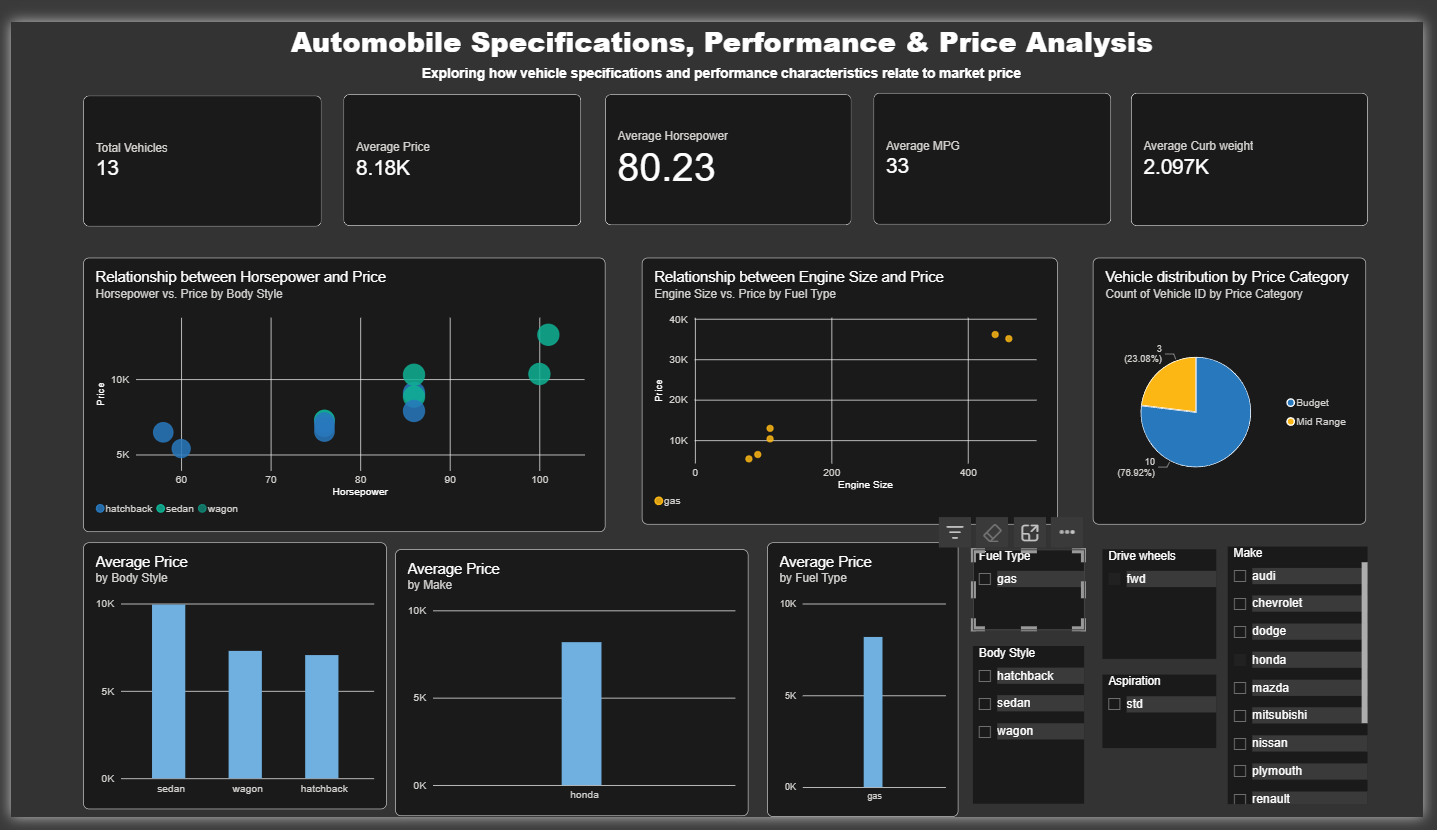

The page's visual inventory and layout, read from the dashboard file:
{"tool":"powerbi","page":{"name":"Automobile Overview","canvas":[1920,1080],"ordinal":0},"visuals":[{"type":"textbox","box":[10.4,0,1910.4,70.8],"z":0},{"type":"cardVisual","fields":{"Data":["Automobile.Total Vehicles"]},"box":[97.5,100,324.4,178],"z":1000},{"type":"cardVisual","fields":{"Data":["Automobile.Average Price"]},"box":[452.5,97.5,323.8,179.2],"z":2000},{"type":"cardVisual","fields":{"Data":["Automobile.Average Horsepower"]},"box":[807.5,97.5,335.4,178.5],"z":3000},{"type":"cardVisual","fields":{"Data":["Automobile.Average_MPG"]},"box":[1171.4,97.1,323.1,179.2],"z":4000},{"type":"clusteredColumnChart","fields":{"Category":["Automobile.Make"],"Y":["Automobile.Average Price"]},"box":[522.5,717.5,480,362.5],"z":5000},{"type":"scatterChart","title":"Relationship between Engine Size and Price","fields":{"Category":["Automobile.Horsepower"],"Series":["Automobile.Fuel Type"],"X":["Sum(Automobile.Engine size)"],"Y":["Sum(Automobile.Price)"]},"box":[857.5,320,565,362.5],"z":6000},{"type":"scatterChart","title":"Relationship between Horsepower and Price","fields":{"Series":["Automobile.Body Style"],"Size":["Sum(Automobile.Engine size)"],"X":["Automobile.Horsepower"],"Y":["Automobile.Price"]},"box":[97.5,320,710,372.5],"z":7000},{"type":"clusteredColumnChart","fields":{"Category":["Automobile.Body Style"],"Y":["Automobile.Average Price"]},"box":[97.5,707.5,412.5,362.5],"z":8000},{"type":"clusteredColumnChart","fields":{"Category":["Automobile.Fuel Type"],"Y":["Automobile.Average Price"]},"box":[1027.5,707.5,260,372.5],"z":9000},{"type":"slicer","fields":{"Values":["Automobile.Make"]},"box":[1653.8,712.5,190,350],"z":10000},{"type":"slicer","fields":{"Values":["Automobile.Fuel Type"]},"box":[1307.5,717.5,151.1,108.9],"z":11000},{"type":"slicer","fields":{"Values":["Automobile.Body Style"]},"box":[1307.5,848.8,151,214],"z":12000},{"type":"slicer","fields":{"Values":["Automobile.Drive wheels"]},"box":[1482.5,717.5,155,148.8],"z":13000},{"type":"slicer","fields":{"Values":["Automobile.Aspiration"]},"box":[1482.5,887.5,155,100],"z":14000},{"type":"cardVisual","fields":{"Data":["Avg(Automobile.Curb weight)"]},"box":[1521.4,97.1,322.9,181.4],"z":15000},{"type":"pieChart","title":"Vehicle distribution by Price Category","fields":{"Category":["Automobile.Price Category"],"Y":["CountNonNull(Automobile.Vehicle ID)"]},"box":[1470,320,371.2,362.5],"z":16000},{"type":"textbox","box":[522.5,58.8,886.2,30],"z":17000}]}

Visuals, with their boxes in screenshot pixels (x1, y1, x2, y2), scaled from the page's 1920x1080 canvas onto the 1437x830 screenshot:
textbox: 8/0/1436/54
cardVisual - Automobile.Total Vehicles: 73/77/316/214
cardVisual - Automobile.Average Price: 339/75/581/213
cardVisual - Automobile.Average Horsepower: 604/75/855/212
cardVisual - Automobile.Average_MPG: 877/75/1119/212
clusteredColumnChart - Automobile.Make x Automobile.Average Price: 391/551/750/829
"Relationship between Engine Size and Price" scatterChart: 642/246/1065/525
"Relationship between Horsepower and Price" scatterChart: 73/246/604/532
clusteredColumnChart - Automobile.Body Style x Automobile.Average Price: 73/544/382/822
clusteredColumnChart - Automobile.Fuel Type x Automobile.Average Price: 769/544/964/829
slicer - Automobile.Make: 1238/548/1380/817
slicer - Automobile.Fuel Type: 979/551/1092/635
slicer - Automobile.Body Style: 979/652/1092/817
slicer - Automobile.Drive wheels: 1110/551/1226/666
slicer - Automobile.Aspiration: 1110/682/1226/759
cardVisual - Avg(Automobile.Curb weight): 1139/75/1380/214
"Vehicle distribution by Price Category" pieChart: 1100/246/1378/525
textbox: 391/45/1054/68
